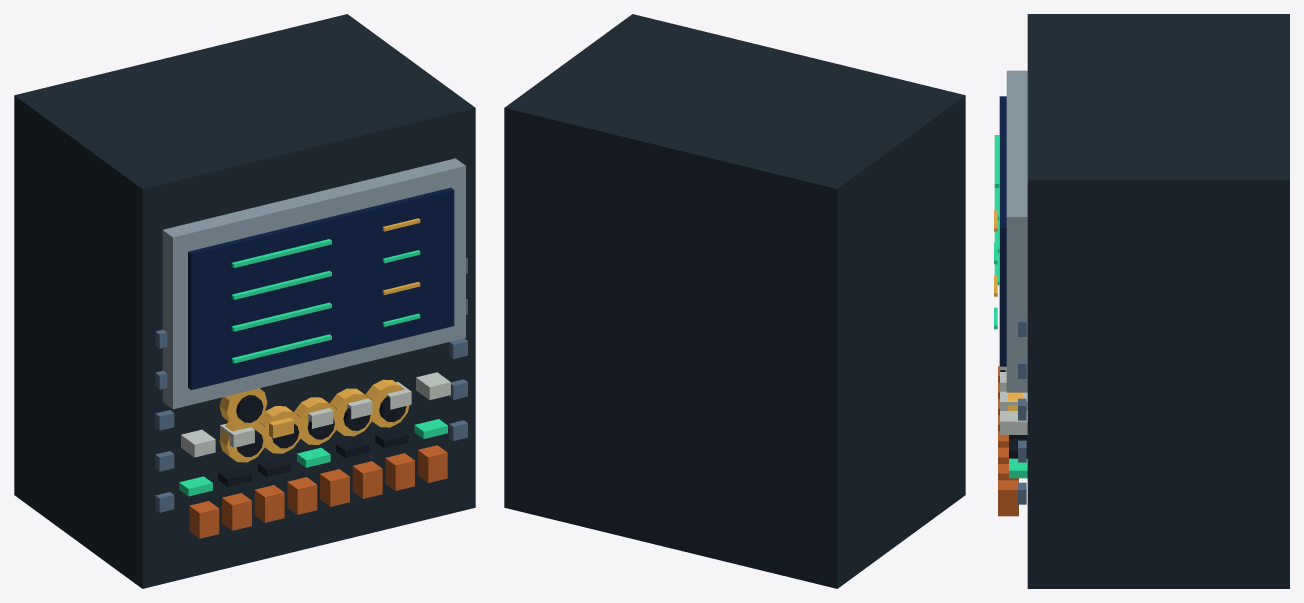
File: 22_L84_ReactionWheelMotorDriverRack.fbx
3 renders of one model, left to right at view 1: azimuth 30°, elevation 25°; view 2: azimuth 150°, elevation 25°; view 3: azimuth 270°, elevation 25°, orthographic. The views are drawn at different scales.
Visible parts, largest first — view 1: L84_ReactionWheelMotorDriverRack, L84_ReactionWheelMotorDriverRack_Part_0016, L84_ReactionWheelMotorDriverRack_Part_0018, L84_ReactionWheelMotorDriverRack_Part_0014, L84_ReactionWheelMotorDriverRack_Part_0020, L84_ReactionWheelMotorDriverRack_Part_0022, L84_ReactionWheelMotorDriverRack_Part_0012, L84_ReactionWheelMotorDriverRack_Part_0023; view 2: L84_ReactionWheelMotorDriverRack; view 3: L84_ReactionWheelMotorDriverRack.
Part boxes in pixels (x1,y1,x2,y2): L84_ReactionWheelMotorDriverRack: (14,14,475,588); L84_ReactionWheelMotorDriverRack_Part_0016: (294,397,338,444); L84_ReactionWheelMotorDriverRack_Part_0018: (329,388,374,436); L84_ReactionWheelMotorDriverRack_Part_0014: (258,406,303,453); L84_ReactionWheelMotorDriverRack_Part_0020: (365,379,409,427); L84_ReactionWheelMotorDriverRack_Part_0022: (219,388,267,427); L84_ReactionWheelMotorDriverRack_Part_0012: (219,420,266,462); L84_ReactionWheelMotorDriverRack_Part_0023: (236,395,263,422); L84_ReactionWheelMotorDriverRack: (504,14,965,588); L84_ReactionWheelMotorDriverRack: (994,14,1289,588).
Bounding box in the file's own units: 107 × 123 × 80.59.
